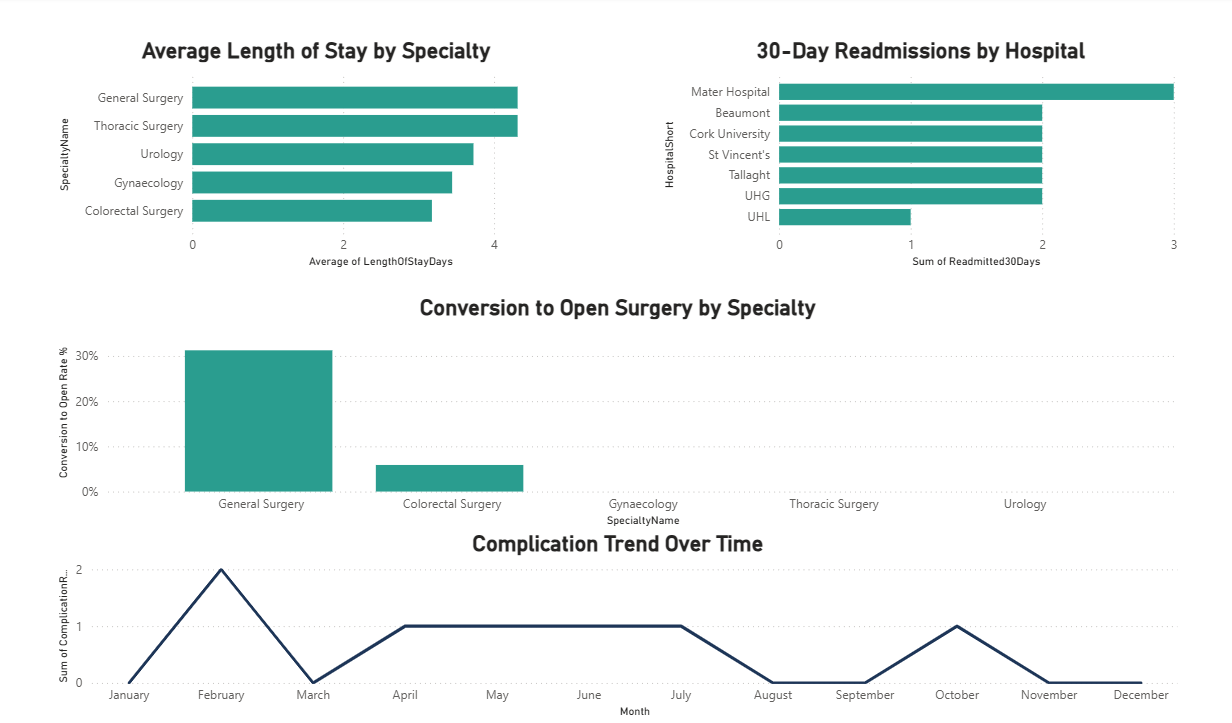

This screenshot's page, from the dashboard's own definition file:
{"tool":"powerbi","page":{"name":"Clinical & Governance Analysis","canvas":[1280,720],"ordinal":1},"visuals":[{"type":"clusteredBarChart","title":"Average Length of Stay by Specialty","fields":{"Category":["robotic_surgery_dashboard_dataset.SpecialtyName"],"Y":["Avg(robotic_surgery_dashboard_dataset.LengthOfStayDays)"]},"box":[65.7,40.9,519.7,232],"z":0,"group":"g1"},{"type":"clusteredColumnChart","title":"Conversion to Open Surgery by Specialty","fields":{"Category":["robotic_surgery_dashboard_dataset.SpecialtyName"],"Y":["robotic_surgery_dashboard_dataset.Conversion to Open Rate %"]},"box":[64.4,295.6,1119.4,233.7],"z":0},{"type":"clusteredBarChart","title":"30-Day Readmissions by Hospital","fields":{"Y":["Sum(robotic_surgery_dashboard_dataset.Readmitted30Days)"],"Category":["robotic_surgery_dashboard_dataset.HospitalShort"]},"box":[664.9,40.4,519,232.2],"z":1000,"group":"g1"},{"type":"lineChart","title":"Complication Trend Over Time","fields":{"Category":["robotic_surgery_dashboard_dataset.SurgeryDate.Variation.Date Hierarchy.Month"],"Y":["Sum(robotic_surgery_dashboard_dataset.ComplicationRecorded)"]},"box":[64.4,529.4,1119.4,189.5],"z":1000},{"type":"group","id":"g1","title":"Group 1","box":[65.7,40.4,1118.1,232.5],"z":2000}]}

Visuals, with their boxes on the page's 1280x720 design canvas (x1, y1, x2, y2). These are canvas units, not pixel positions in the 1232x723 screenshot, which may show the page scaled, cropped or inside an application window:
"Average Length of Stay by Specialty" clusteredBarChart: (66,41,585,273)
"Conversion to Open Surgery by Specialty" clusteredColumnChart: (64,296,1184,529)
"30-Day Readmissions by Hospital" clusteredBarChart: (665,40,1184,273)
"Complication Trend Over Time" lineChart: (64,529,1184,719)
"Group 1" group: (66,40,1184,273)
